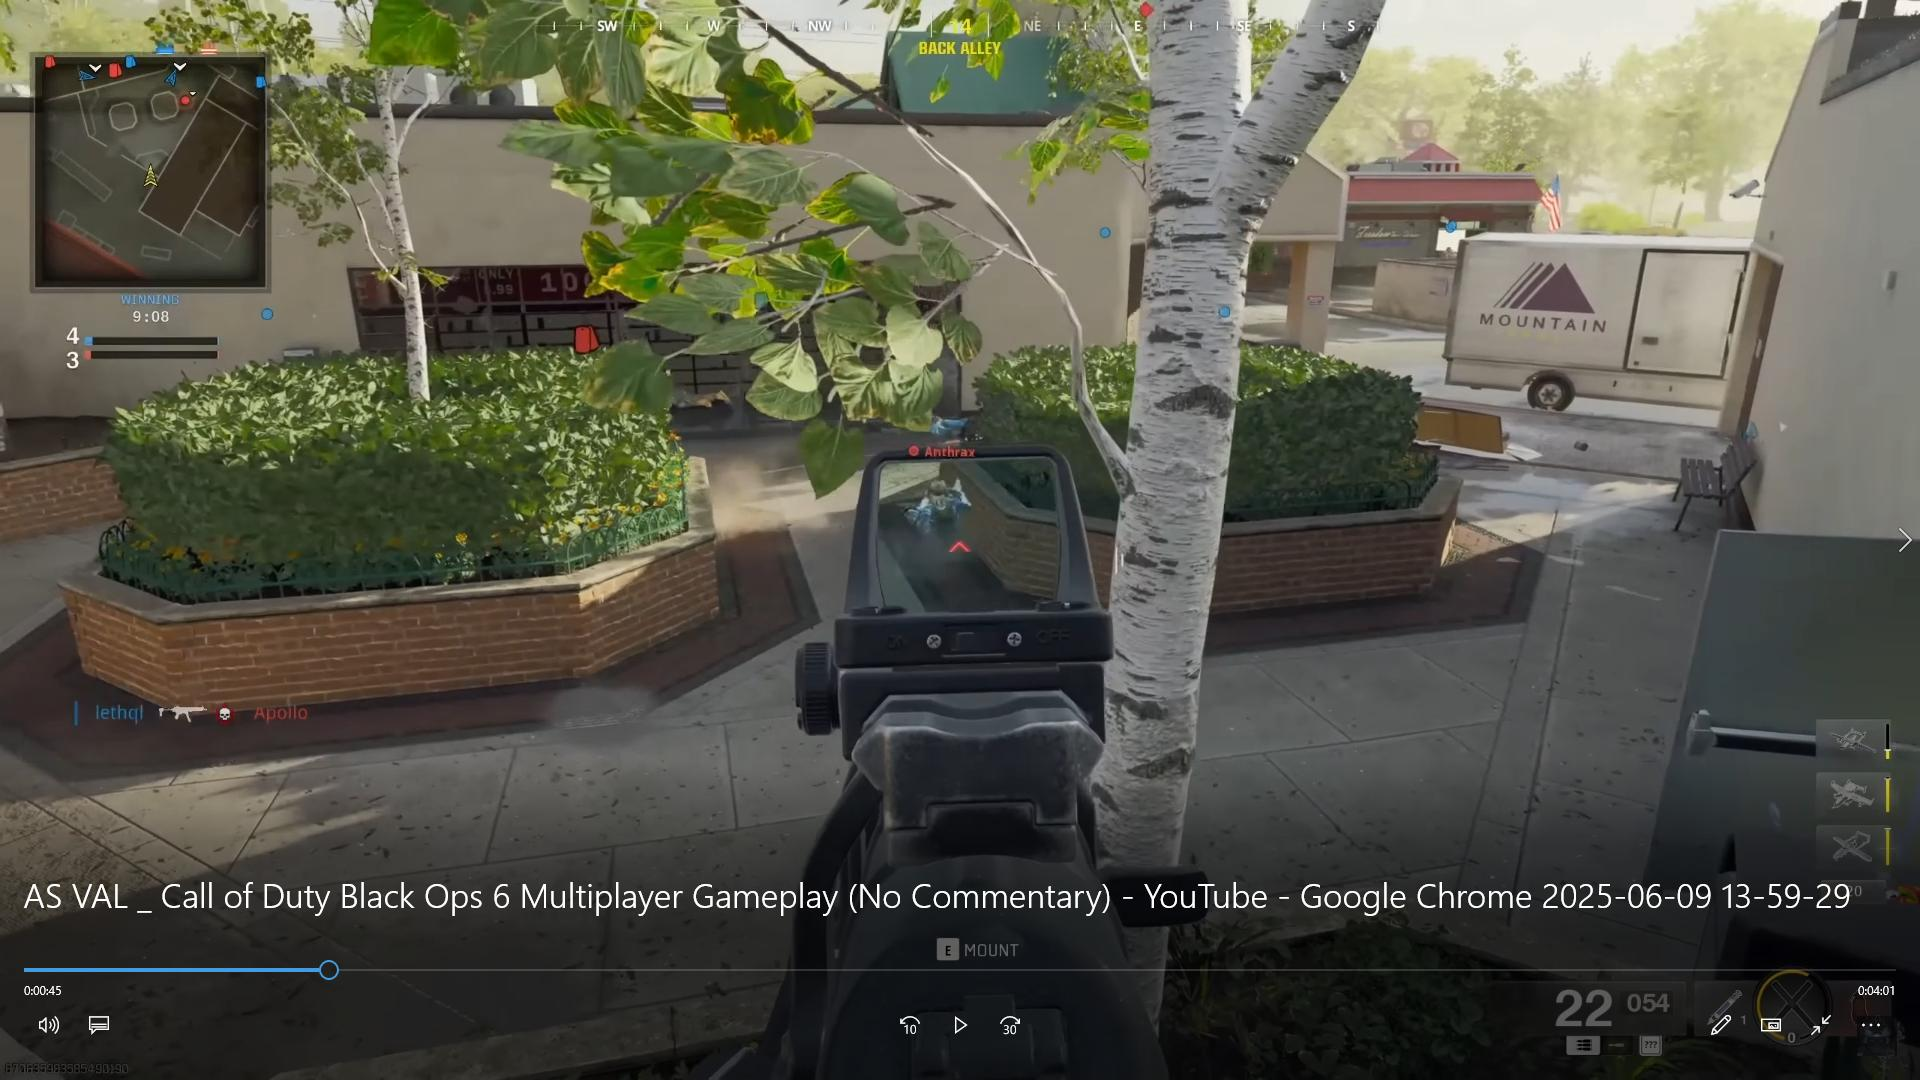Enemy: (899, 475, 977, 543)
